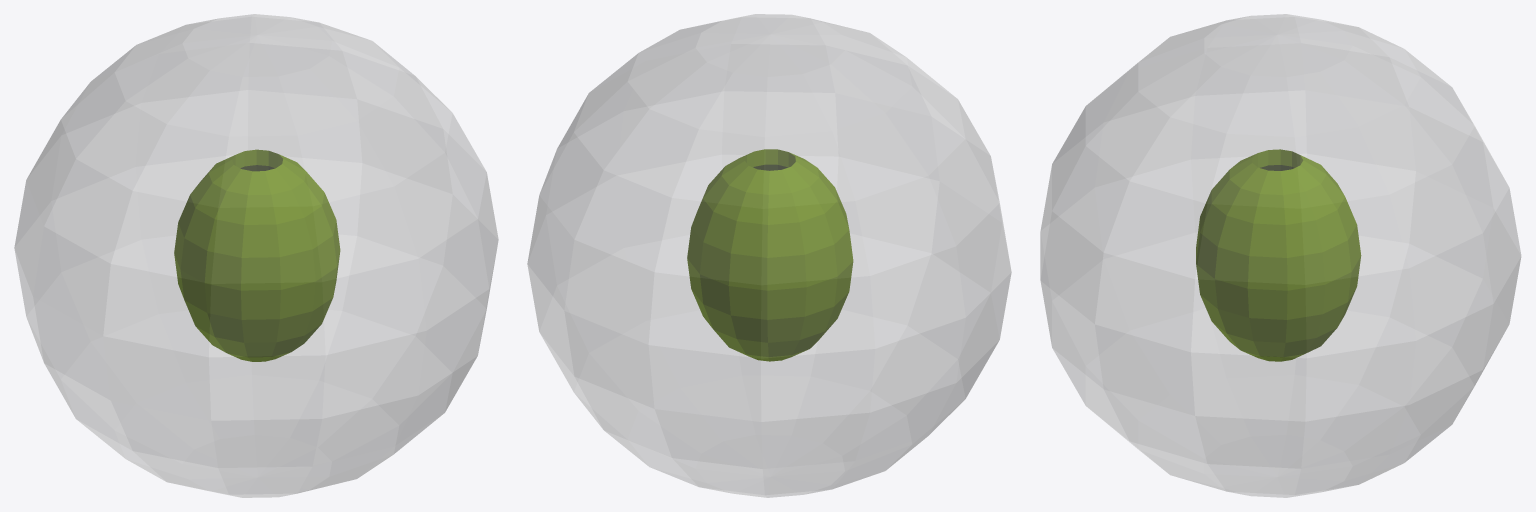
The model's file is Bubble.fbx.
3 views of the same model, side by side, from view 1: azimuth 30°, elevation 25°; view 2: azimuth 150°, elevation 25°; view 3: azimuth 270°, elevation 25° (orthographic).
Visible parts, largest first — view 1: Bubble, Olive; view 2: Bubble, Olive; view 3: Bubble, Olive.
Boxes of the visible parts, <box> form: Bubble: <box>14,14,498,497</box>; Olive: <box>174,149,340,361</box>; Bubble: <box>527,14,1011,497</box>; Olive: <box>687,149,853,361</box>; Bubble: <box>1040,14,1521,497</box>; Olive: <box>1196,149,1361,361</box>.
Size of the model in its own units: 199 by 200 by 197.
